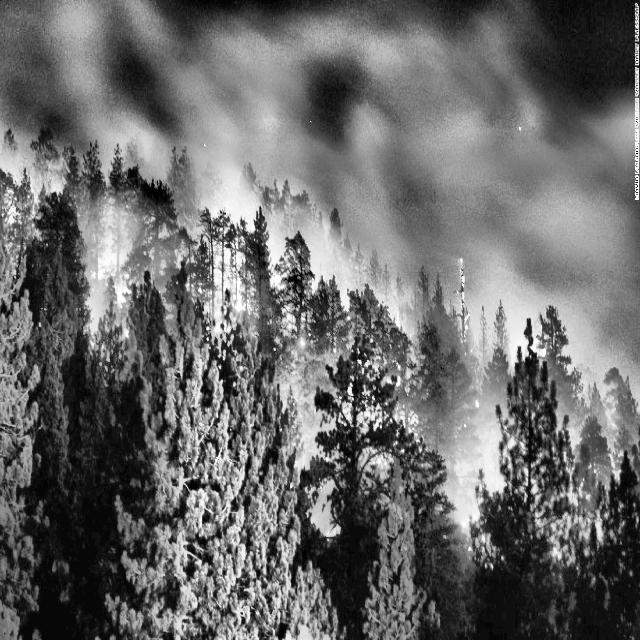fire: (77, 149, 355, 512), (375, 164, 577, 614)
